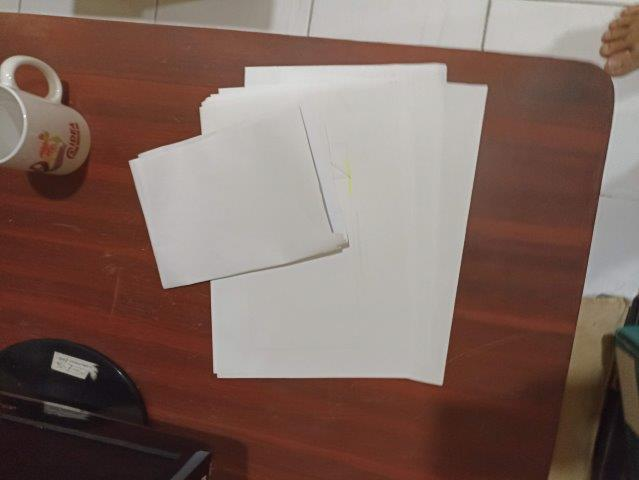kertas: (129, 62, 488, 387)
